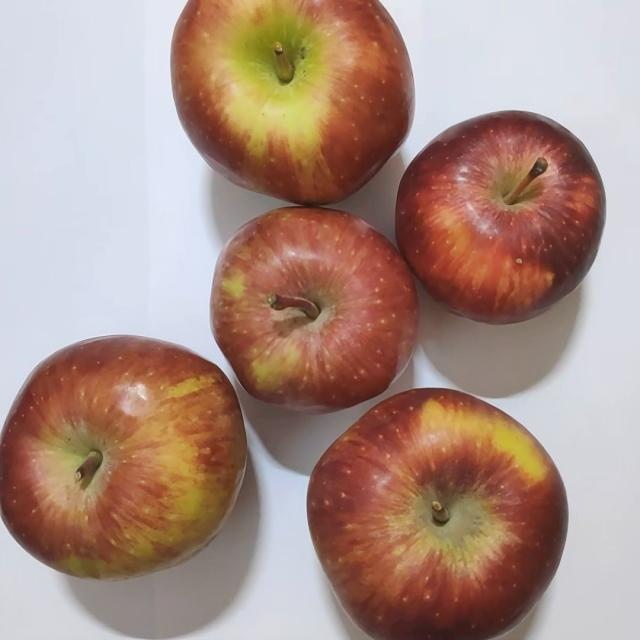apple: (290, 387, 558, 640), (0, 332, 249, 590), (156, 0, 414, 222), (379, 112, 599, 342), (192, 206, 418, 428)
